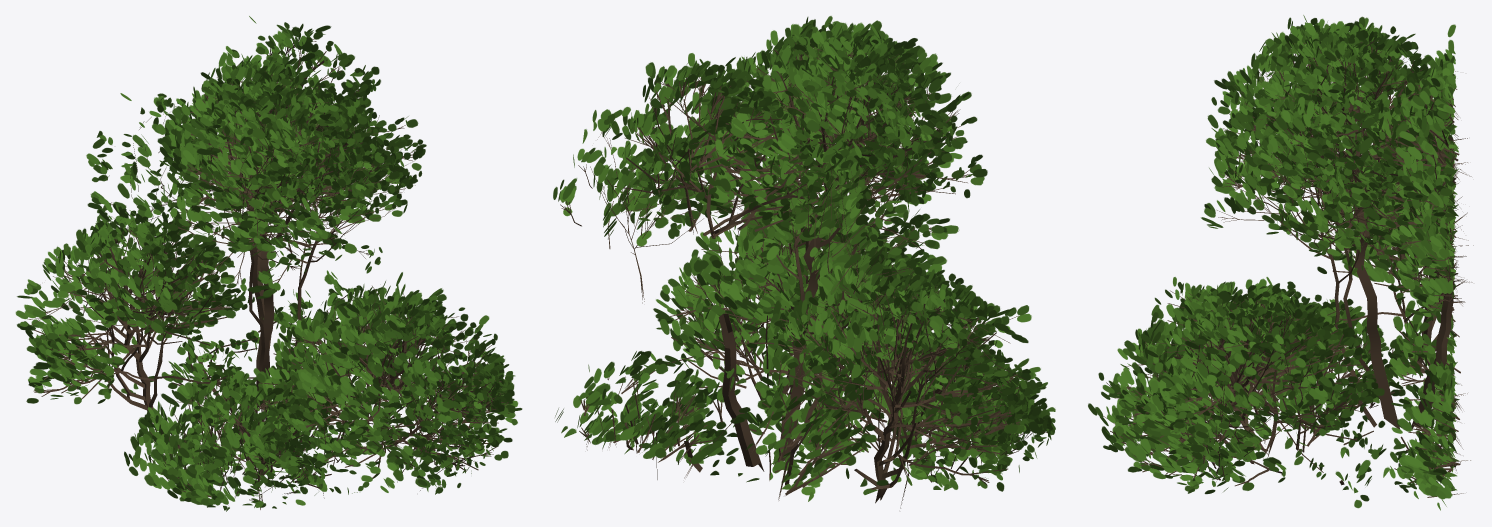
3 renders of one model, left to right at view 1: azimuth 30°, elevation 25°; view 2: azimuth 150°, elevation 25°; view 3: azimuth 270°, elevation 25°, orthographic. The views are drawn at different scales.
Parts seen in each view (by area): view 1: oak 01.001_trunk_Mat.001_0.253; view 2: oak 01.001_trunk_Mat.001_0.253; view 3: oak 01.001_trunk_Mat.001_0.253.
Part boxes in pixels (left/top/right/bottom): oak 01.001_trunk_Mat.001_0.253: left=15, top=16, right=522, bottom=511; oak 01.001_trunk_Mat.001_0.253: left=553, top=16, right=1055, bottom=508; oak 01.001_trunk_Mat.001_0.253: left=1088, top=15, right=1473, bottom=510.
Size of the model in its own units: 3.55 by 3.19 by 2.73.
2 materials, 1 textured.
